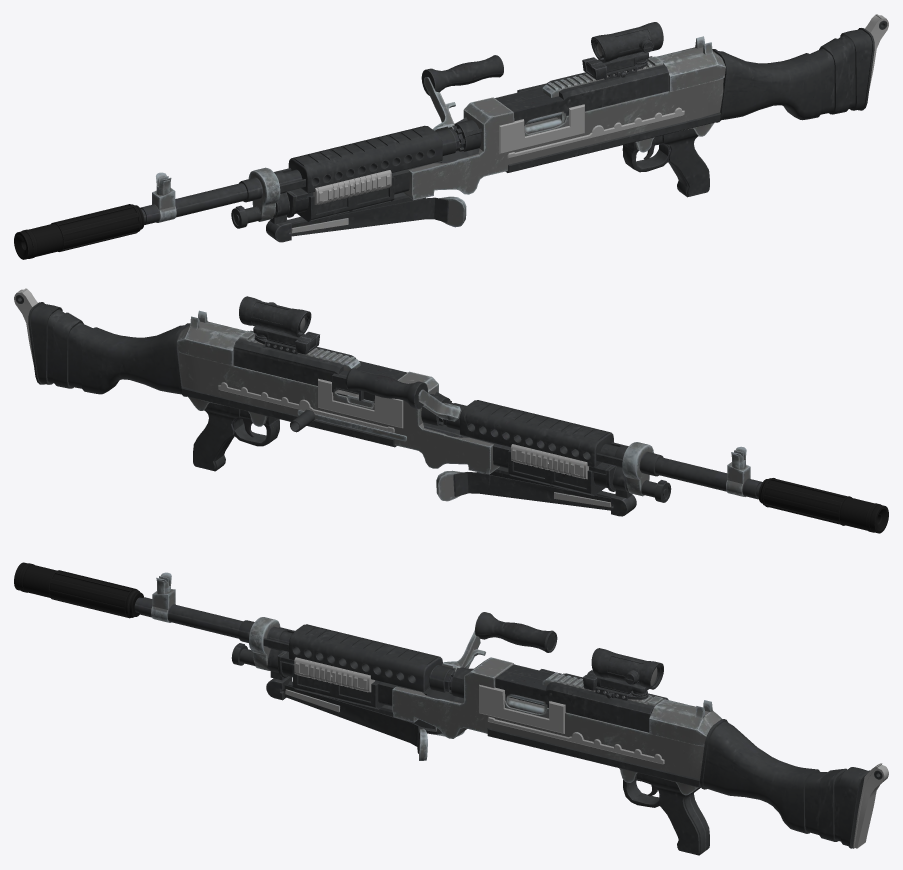
The model's file is fn-mag.glb.
3 views of the same model, one above another, from view 1: azimuth 30°, elevation 25°; view 2: azimuth 150°, elevation 25°; view 3: azimuth 330°, elevation 25° (orthographic).
Visible parts, largest first — view 1: M240, Suppressor, Scope; view 2: M240, Suppressor, Scope; view 3: M240, Suppressor, Scope.
Boxes of the visible parts, x1,y1,x2,y2 form: M240: [140, 14, 888, 242]; Suppressor: [14, 204, 144, 259]; Scope: [582, 22, 663, 80]; M240: [14, 288, 762, 516]; Suppressor: [758, 478, 888, 533]; Scope: [239, 296, 319, 354]; M240: [134, 572, 888, 855]; Suppressor: [14, 562, 143, 618]; Scope: [583, 648, 663, 700].
Bounding box in the file's own units: 1.4 × 0.2752 × 0.1564.
Materials: 3 (3 with a texture image).
